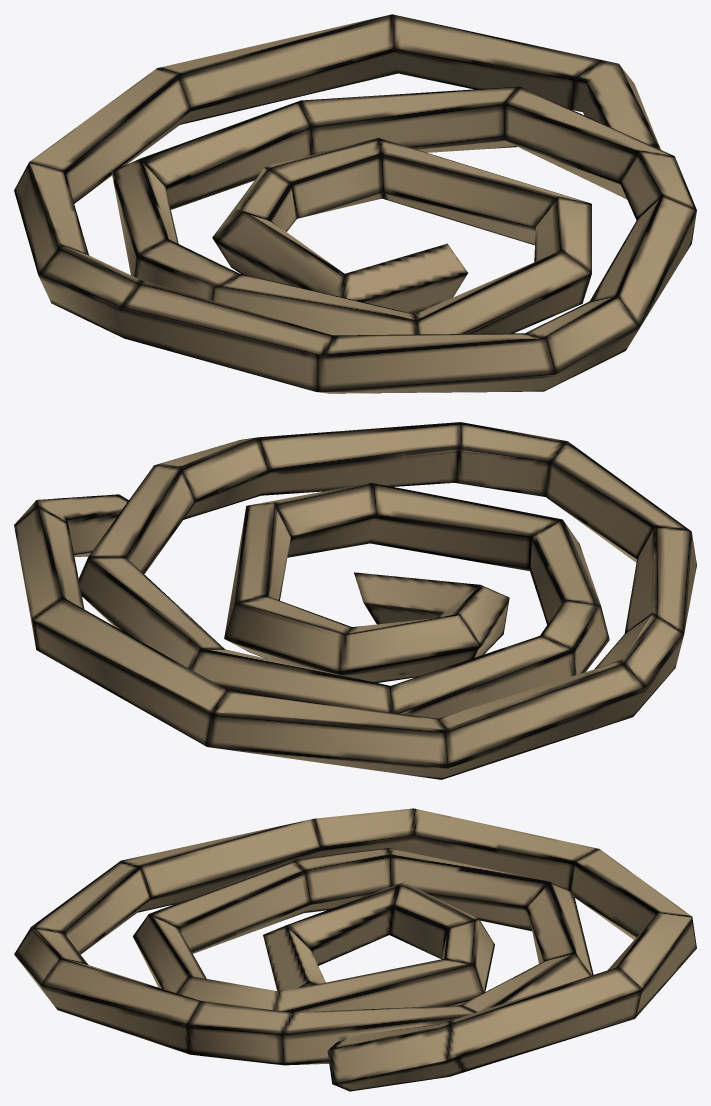
The model's file is corde_enroulee.fbx.
The picture shows the model from 3 angles, top to bottom: view 1: azimuth 30°, elevation 25°; view 2: azimuth 150°, elevation 25°; view 3: azimuth 270°, elevation 25°; orthographic projection. The views are drawn at different scales.
Parts seen in each view (by area): view 1: echelle_corde_enroulee1; view 2: echelle_corde_enroulee1; view 3: echelle_corde_enroulee1.
Boxes of the visible parts, x1,y1,x2,y2 form: echelle_corde_enroulee1: (14, 14, 696, 393); echelle_corde_enroulee1: (14, 422, 696, 779); echelle_corde_enroulee1: (14, 808, 696, 1091).
Bounding box in the file's own units: 75.87 × 14.35 × 81.83.
